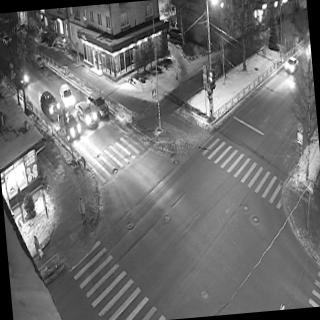small-vehicle: (85, 90, 110, 122), (37, 88, 60, 122), (58, 107, 80, 140), (56, 82, 78, 112), (7, 62, 29, 90), (76, 102, 98, 129), (283, 54, 299, 76), (32, 49, 46, 72)
